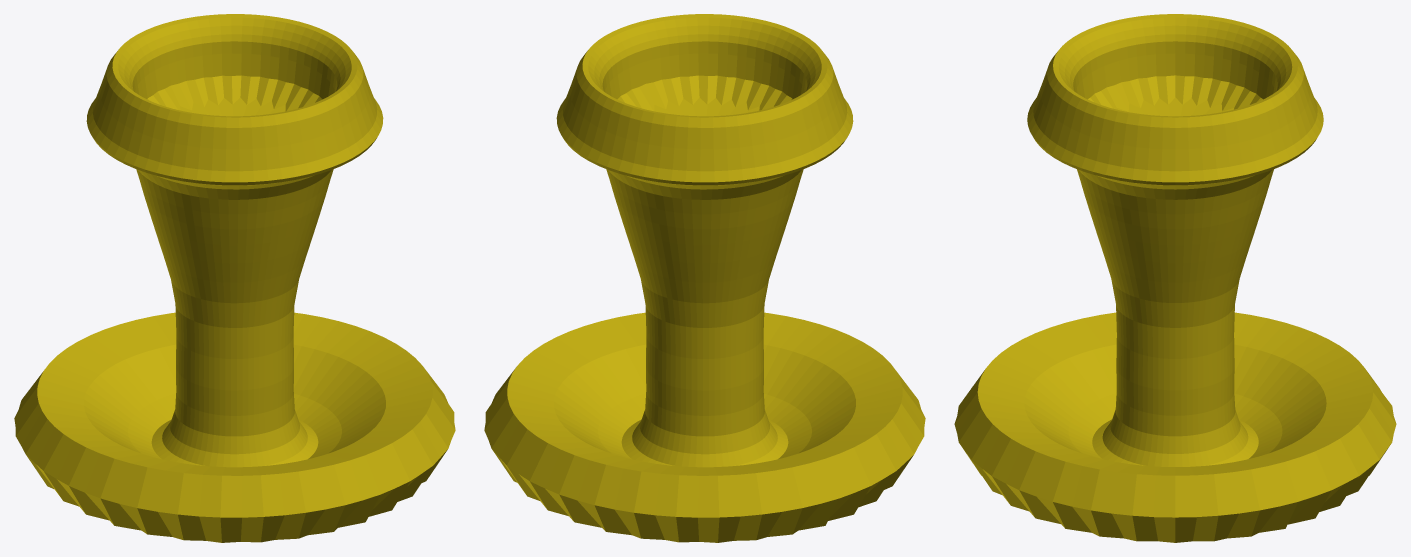
The model's file is BloodTower.fbx.
3 views of the same model, side by side, from view 1: azimuth 30°, elevation 25°; view 2: azimuth 150°, elevation 25°; view 3: azimuth 270°, elevation 25° (orthographic).
Parts seen in each view (by area): view 1: Cylinder; view 2: Cylinder; view 3: Cylinder.
Boxes of the visible parts, x1,y1,x2,y2 form: Cylinder: (14,14,455,542); Cylinder: (484,14,925,542); Cylinder: (954,14,1396,542).
Bounding box in the file's own units: 492 × 524 × 492.
